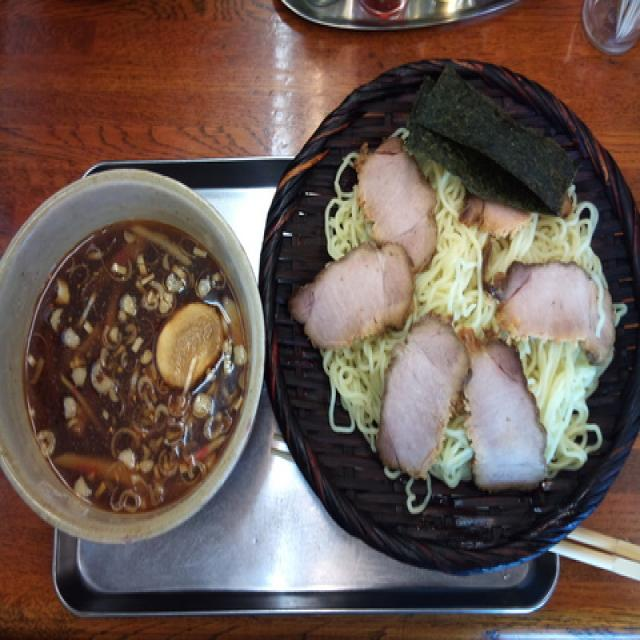面条主食: (0, 55, 637, 579)
